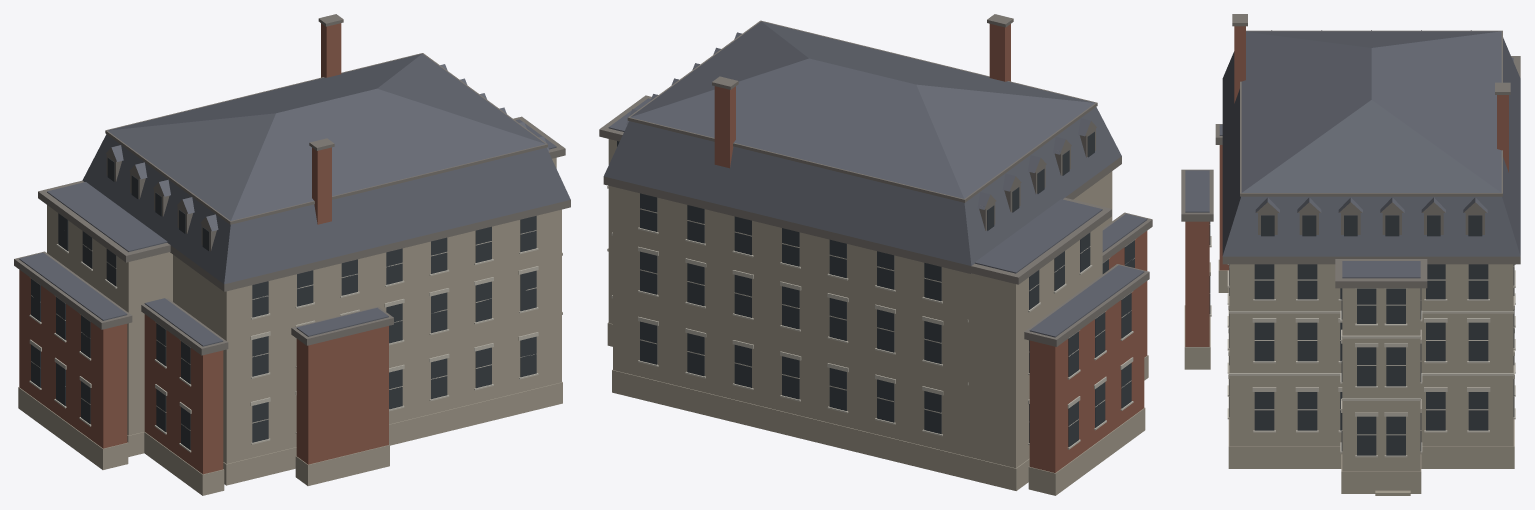
File: ream_house_1901_prairie__draft_1904.glb
3 renders of one model, left to right at view 1: azimuth 30°, elevation 25°; view 2: azimuth 150°, elevation 25°; view 3: azimuth 270°, elevation 25°, orthographic. The views are drawn at different scales.
Visible parts, largest first — view 1: ream_house_1901_prairie__draft_1904; view 2: ream_house_1901_prairie__draft_1904; view 3: ream_house_1901_prairie__draft_1904.
Boxes of the visible parts, left/top/right/bottom form: ream_house_1901_prairie__draft_1904: left=14, top=14, right=570, bottom=495; ream_house_1901_prairie__draft_1904: left=599, top=14, right=1152, bottom=495; ream_house_1901_prairie__draft_1904: left=1181, top=14, right=1520, bottom=495.
Size of the model in its own units: 29.05 by 18.55 by 17.3.
